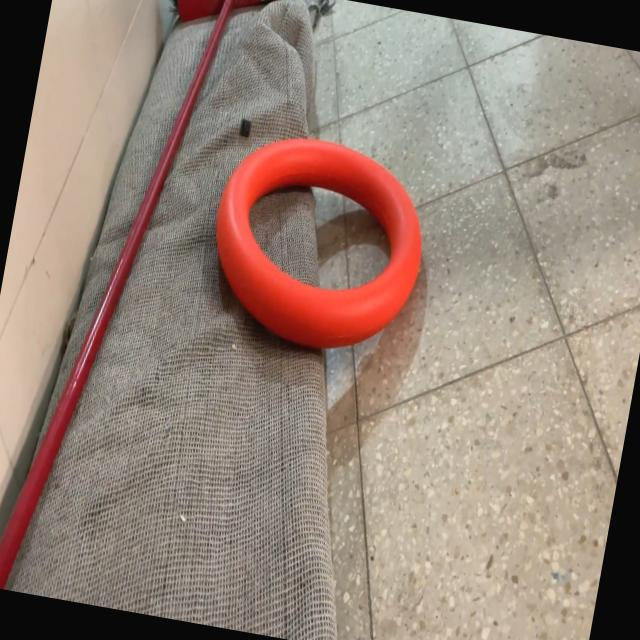note: (194, 121, 440, 368)
